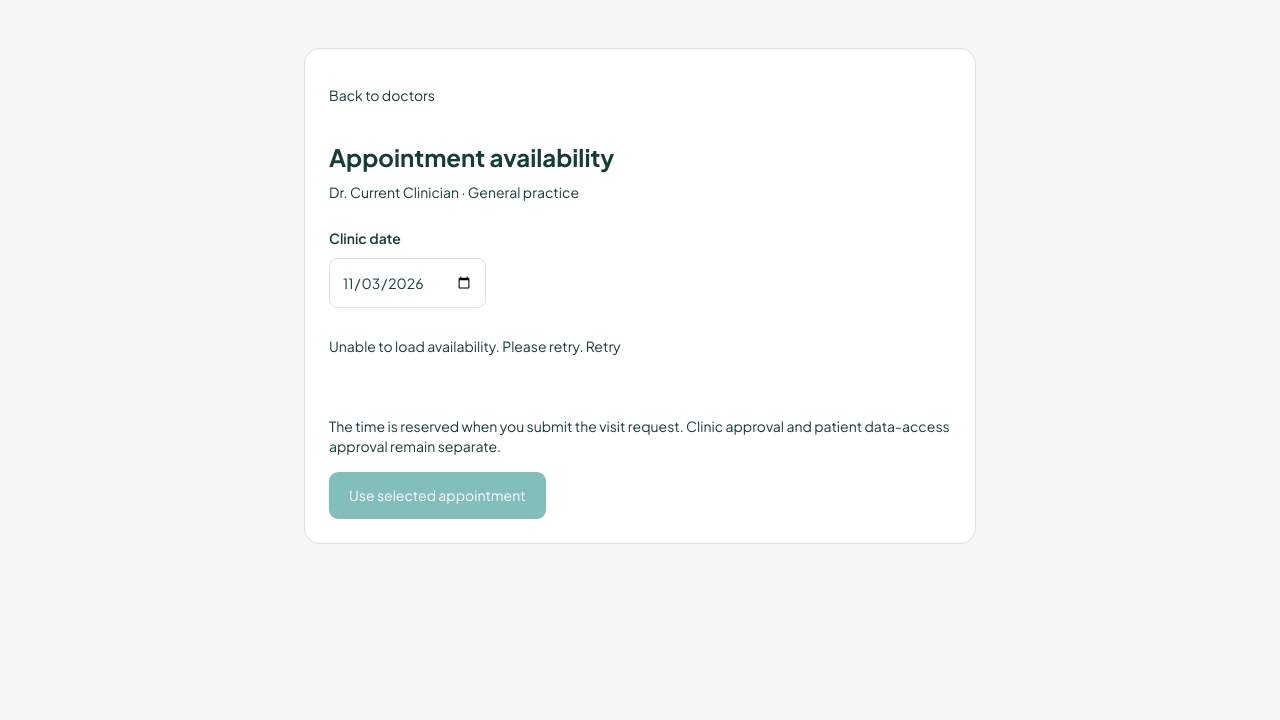
Test: availability failure has a retry and an unconfigured calendar invents no slots
Expected: the message shows "Unable to load availability", [329, 337, 583, 355]
Step 1. Click the button "Retry" → [603, 346], box [586, 324, 621, 368]
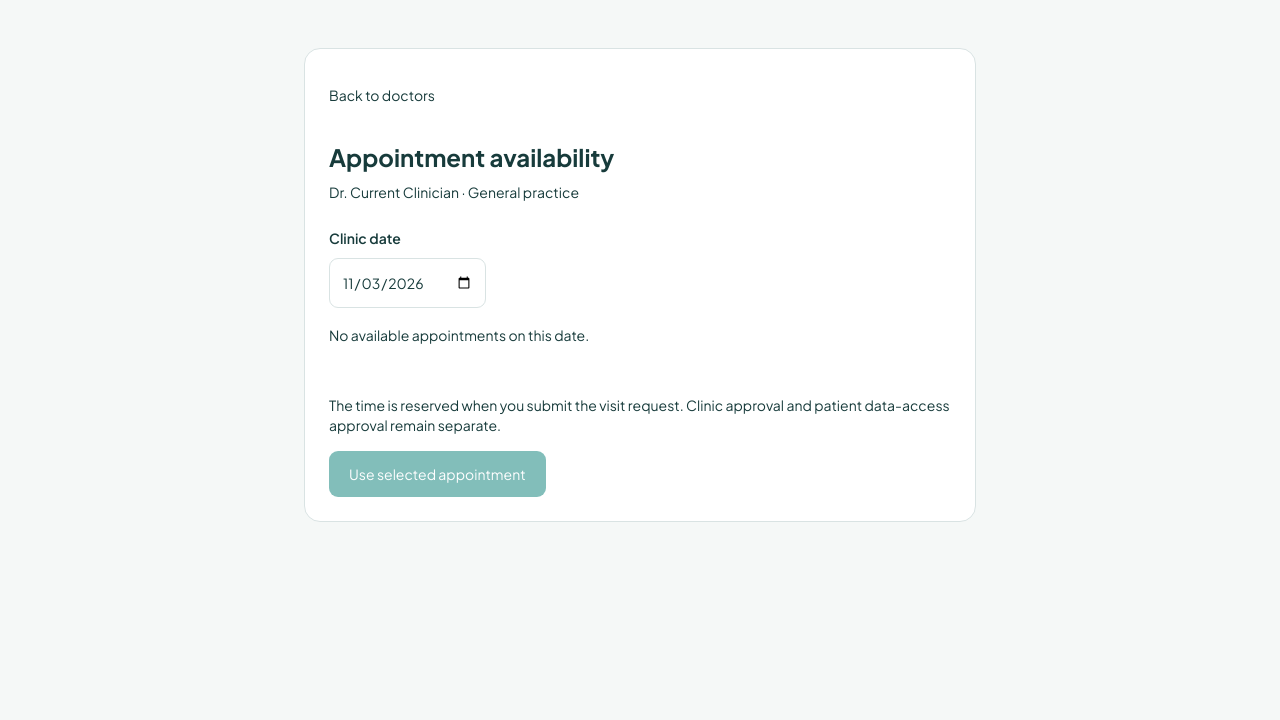
Expected: the button "Use selected appointment" is disabled, [329, 451, 546, 497]
Expected: the text "No available appointments on this date." is shown, [329, 326, 589, 344]
